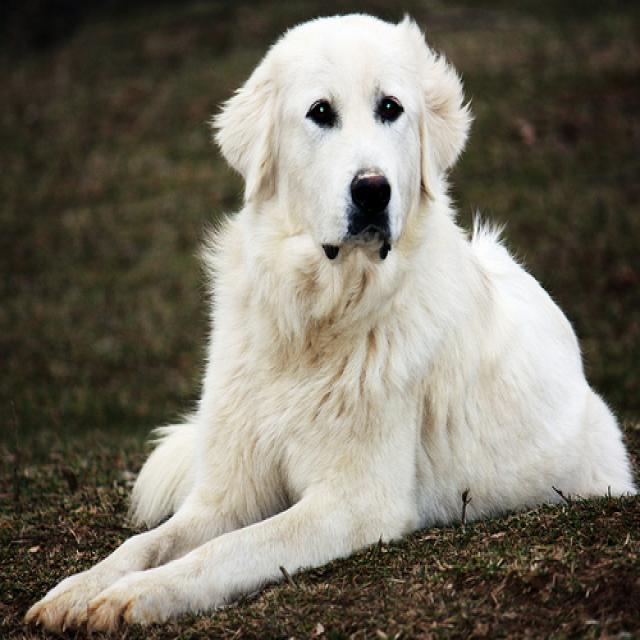dog-great_pyrenees: (17, 6, 637, 637)
